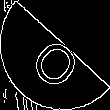O_NE: (24, 22, 86, 88)
